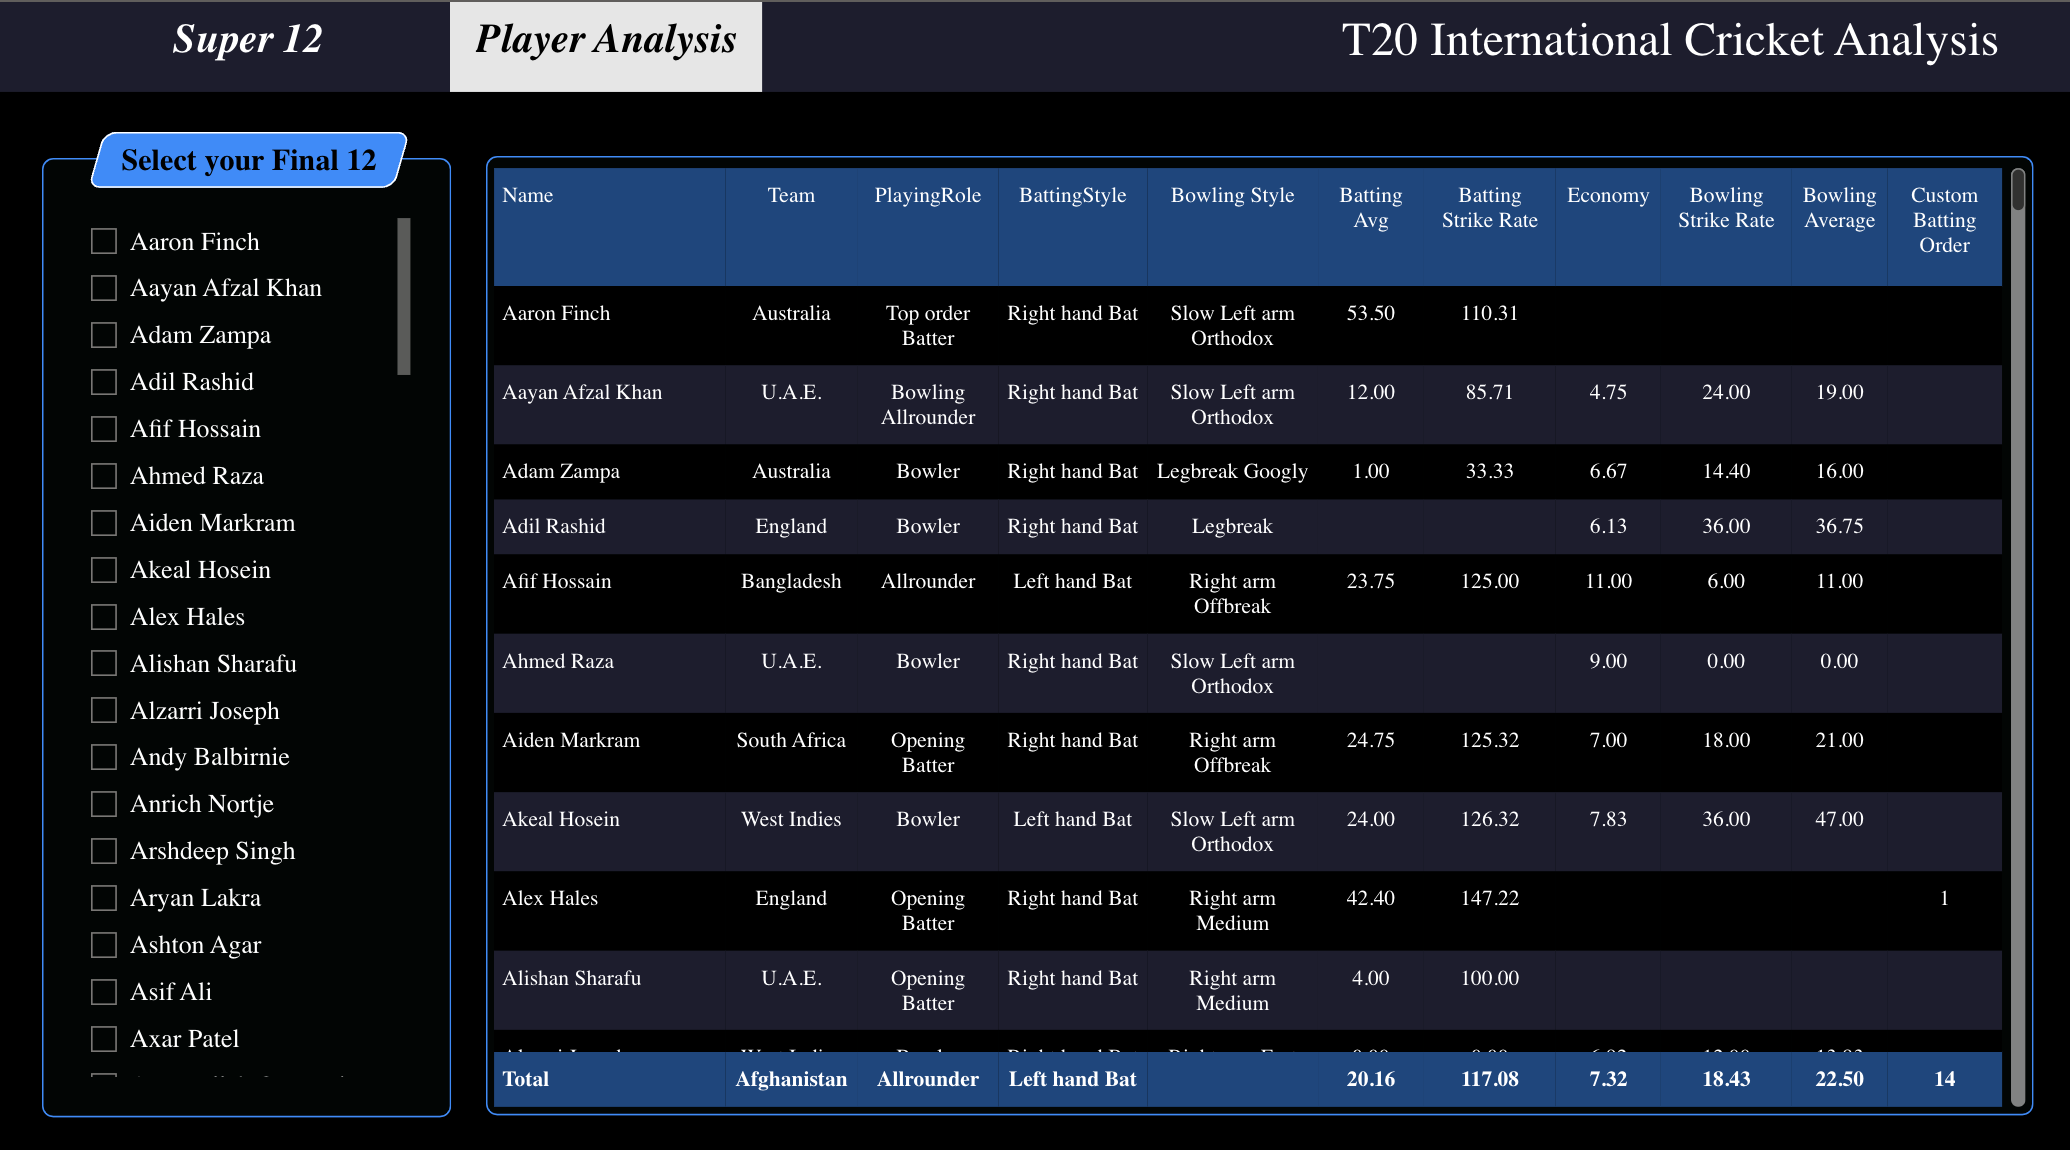

Layout of this report page (visuals, bound fields, positions):
{"tool":"powerbi","page":{"name":"Super 12","canvas":[1280,720],"ordinal":5},"visuals":[{"type":"shape","box":[0,0,1280,65.6],"z":0},{"type":"shape","box":[26.3,106.5,253.1,593.3],"z":1000},{"type":"shape","box":[278.4,0,193.2,65.3],"z":2000},{"type":"shape","box":[53.9,89.9,199.1,34.6],"z":3000},{"type":"shape","box":[300.1,105.1,957,593.3],"z":4000},{"type":"shape","box":[101.4,0,104.3,65.2],"z":5000},{"type":"slicer","fields":{"Values":["dim_players.name"]},"box":[42.9,138.3,215.7,540.7],"z":6000},{"type":"pivotTable","fields":{"Rows":["dim_players.name"],"Values":["Min(dim_players.team)","Min(dim_players.playingRole)","Min(dim_players.battingStyle)","Min(dim_players.bowlingStyle)","Key_Measures.Batting Avg","Key_Measures.Strike rate","Key_Measures.Economy","Key_Measures.Bowling Strike Rate","Key_Measures.Bowling Average","CountNonNull(dim_players.Custom Batting Order)"]},"box":[300.1,107.9,957,590.5],"z":7000},{"type":"shape","title":"T20 International Cricket Analysis","box":[829.5,15.9,426.7,49.4],"z":8000}]}

Visuals, with their boxes in screenshot pixels (x1, y1, x2, y2), scaled from the page's 1280x720 canvas onto the 2070x1150 screenshot:
shape: <bbox>0, 0, 2069, 105</bbox>
shape: <bbox>43, 170, 452, 1118</bbox>
shape: <bbox>450, 0, 763, 104</bbox>
shape: <bbox>87, 144, 409, 199</bbox>
shape: <bbox>485, 168, 2033, 1116</bbox>
shape: <bbox>164, 0, 333, 104</bbox>
slicer - dim_players.name: <bbox>69, 221, 418, 1085</bbox>
pivotTable - dim_players.name x Min(dim_players.team): <bbox>485, 172, 2033, 1116</bbox>
"T20 International Cricket Analysis" shape: <bbox>1341, 25, 2032, 104</bbox>
